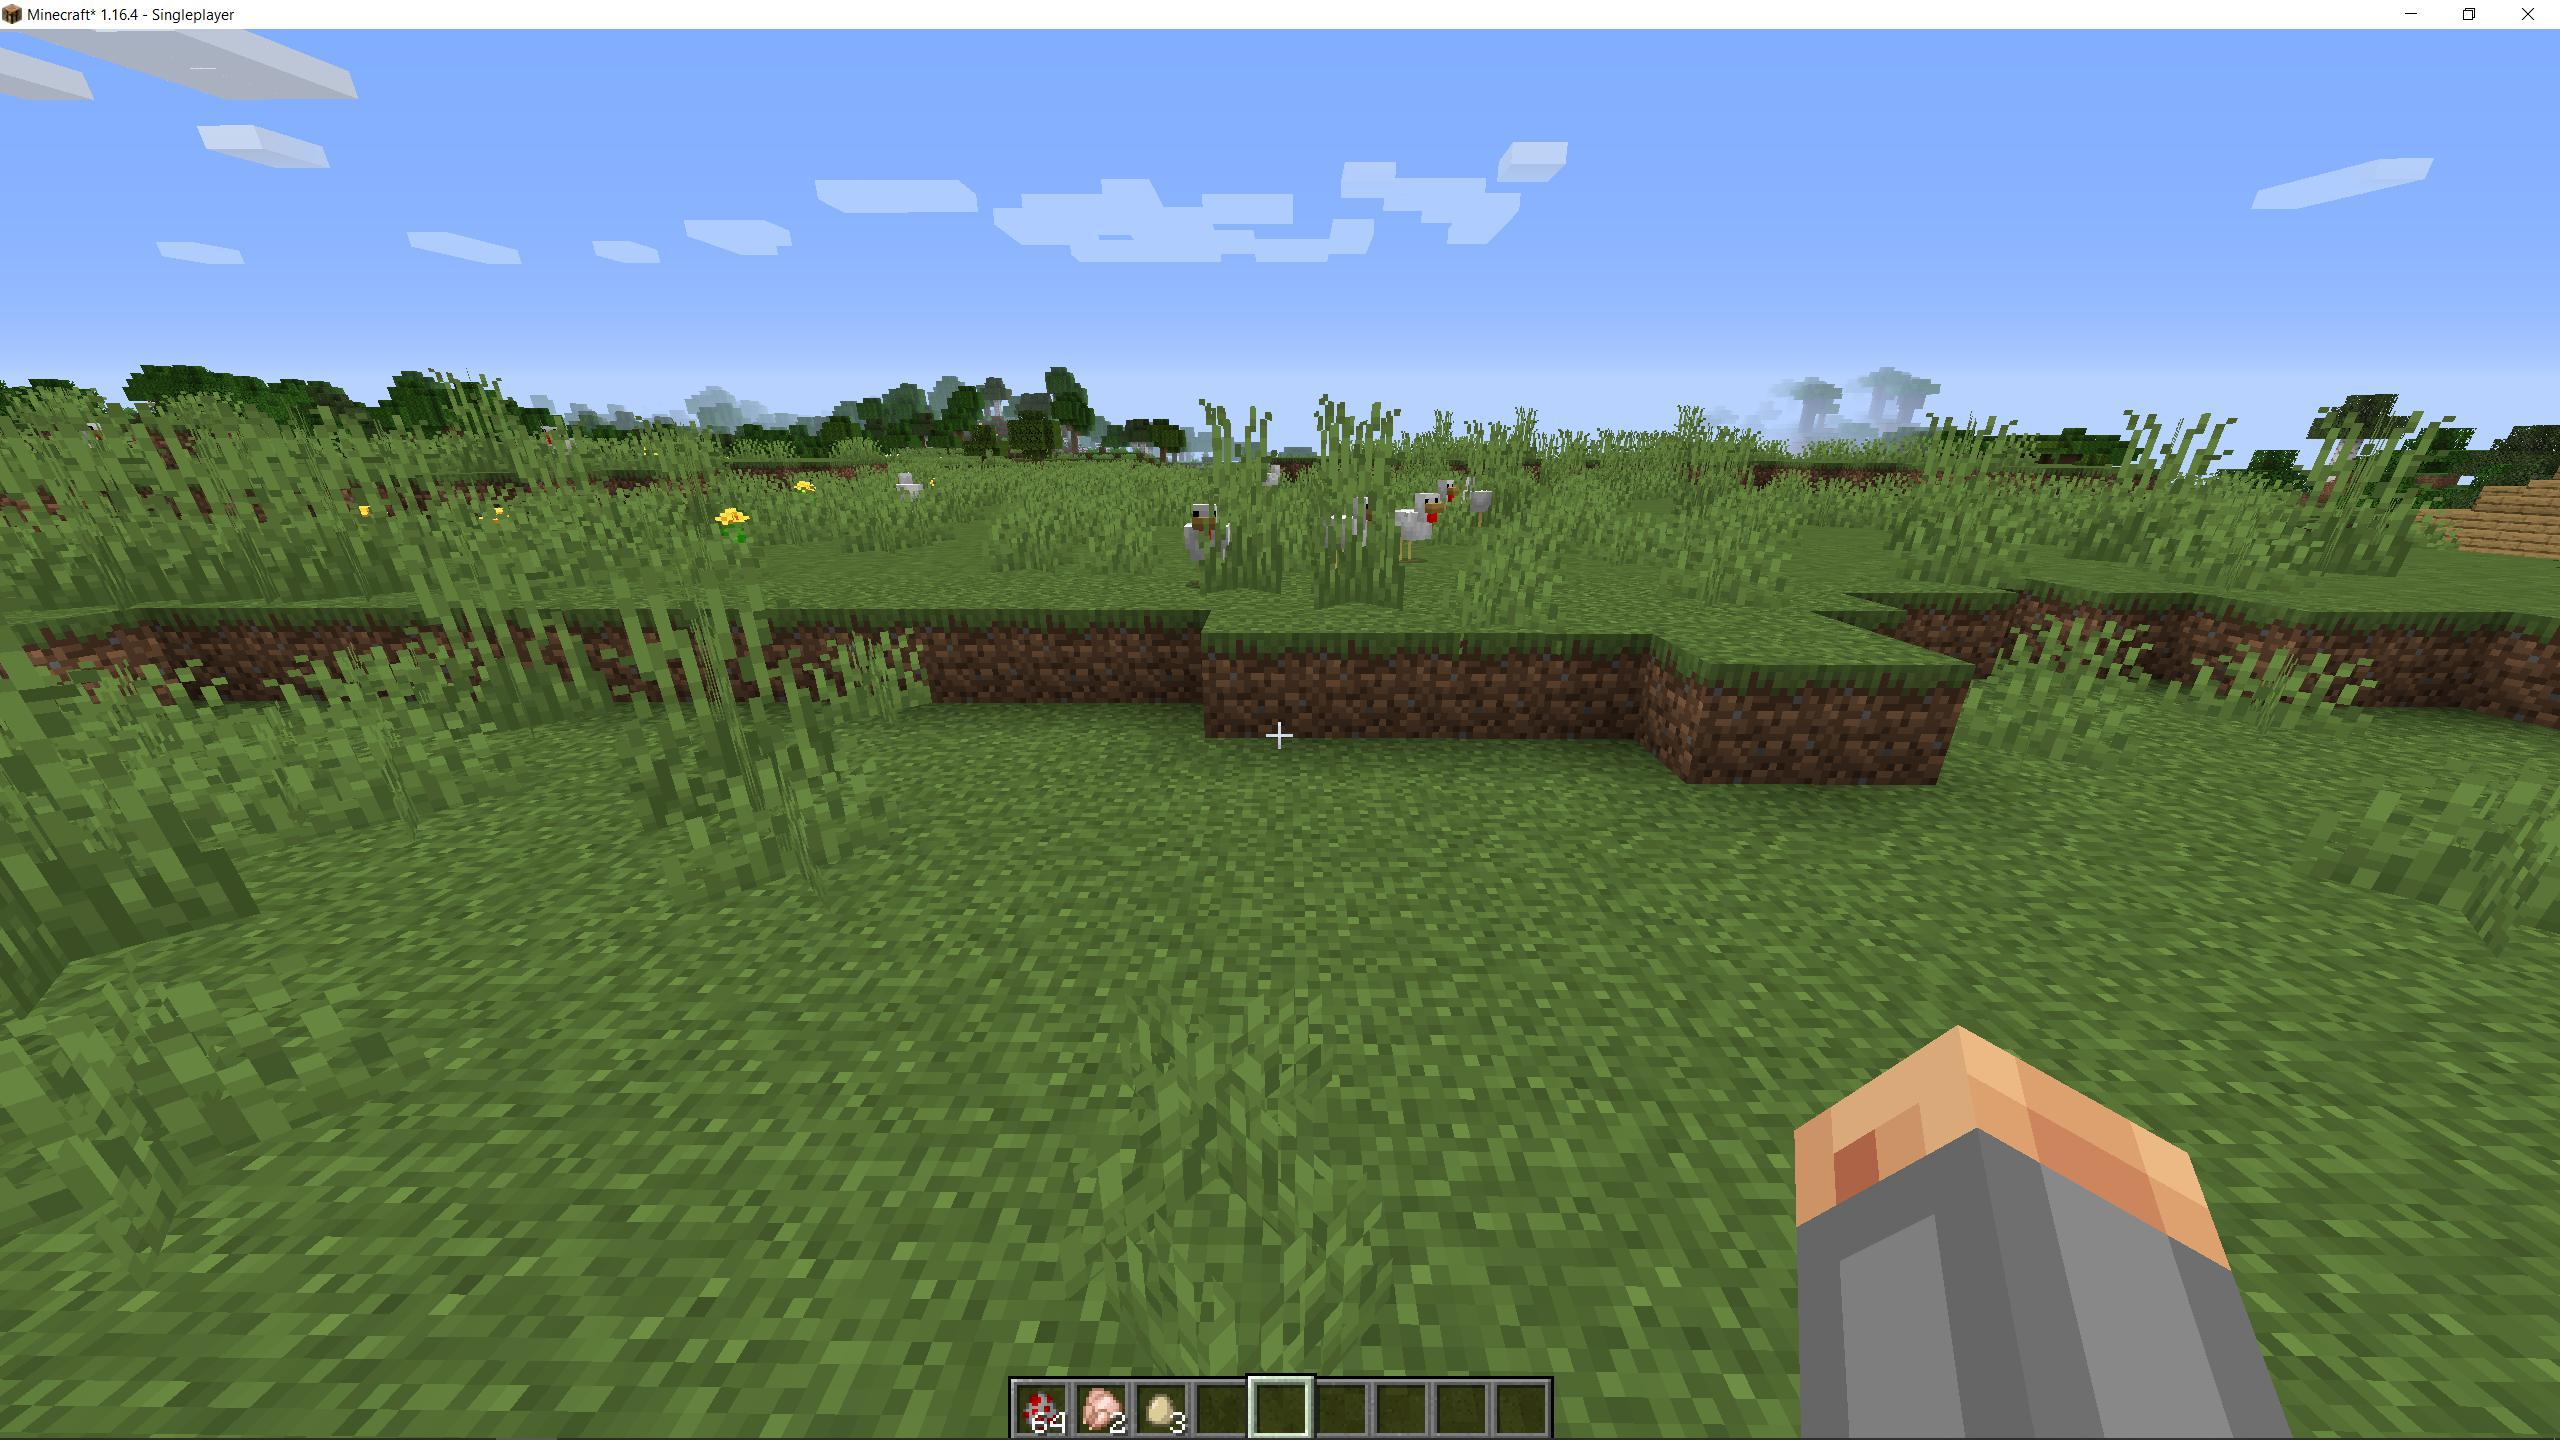chicken: (1175, 494, 1238, 589), (1310, 491, 1377, 573), (1436, 469, 1503, 529), (1391, 492, 1444, 563), (529, 417, 578, 464), (891, 469, 928, 522), (1250, 457, 1289, 496)
